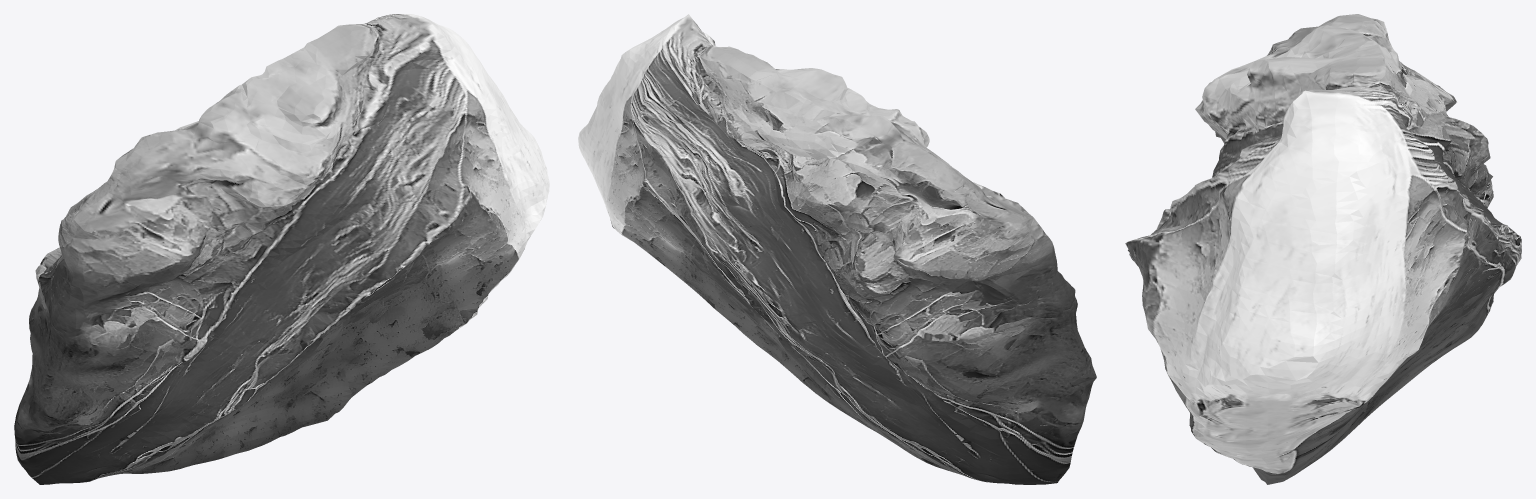
3 views of the same model, side by side, from view 1: azimuth 30°, elevation 25°; view 2: azimuth 150°, elevation 25°; view 3: azimuth 270°, elevation 25° (orthographic). The views are drawn at different scales.
Parts seen in each view (by area): view 1: StoneD; view 2: StoneD; view 3: StoneD.
Part boxes in pixels (box(x1,y1,x2,y2)): StoneD: box(14, 14, 549, 484); StoneD: box(578, 14, 1096, 484); StoneD: box(1125, 14, 1521, 484).
Bounding box in the file's own units: 0.8459 × 0.5985 × 0.4333.
Materials: 1 (1 with a texture image).
